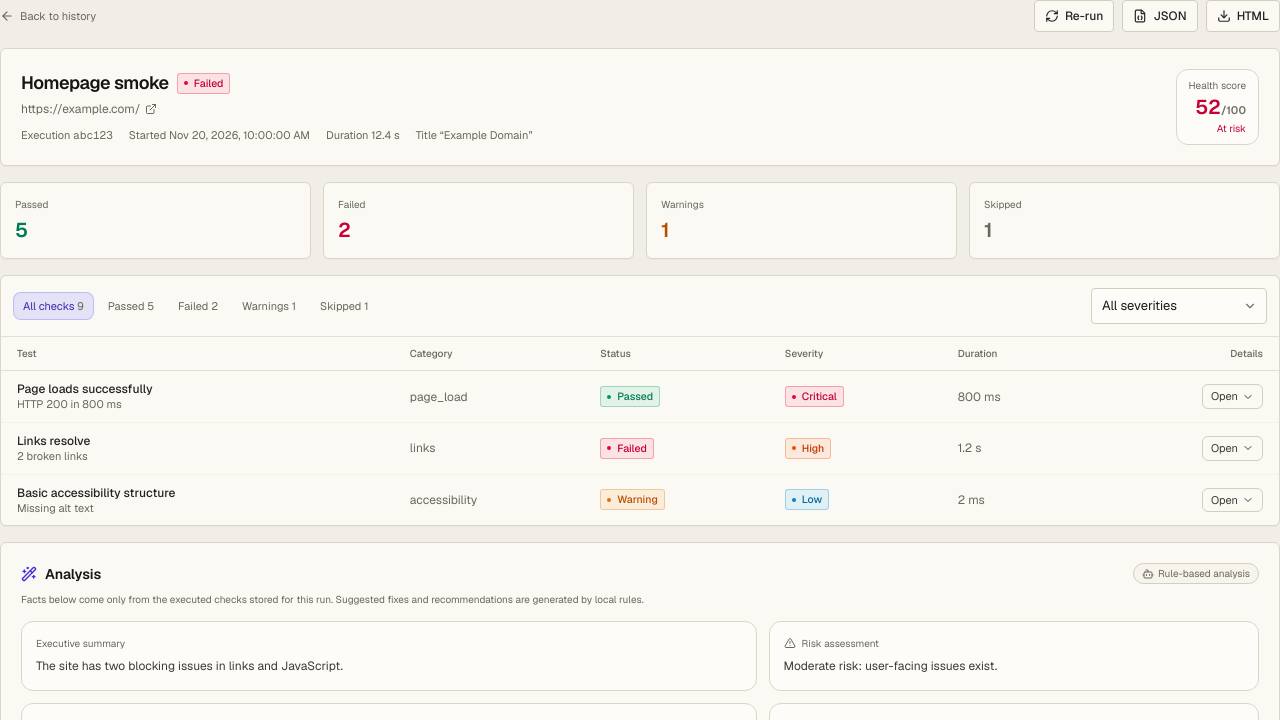
Test: Report page › filters the results table by status
Expected: the text "Page loads successfully" is shown, [17, 381, 152, 397]
Click the button "Failed 2" at (198, 306), box [168, 292, 228, 320]
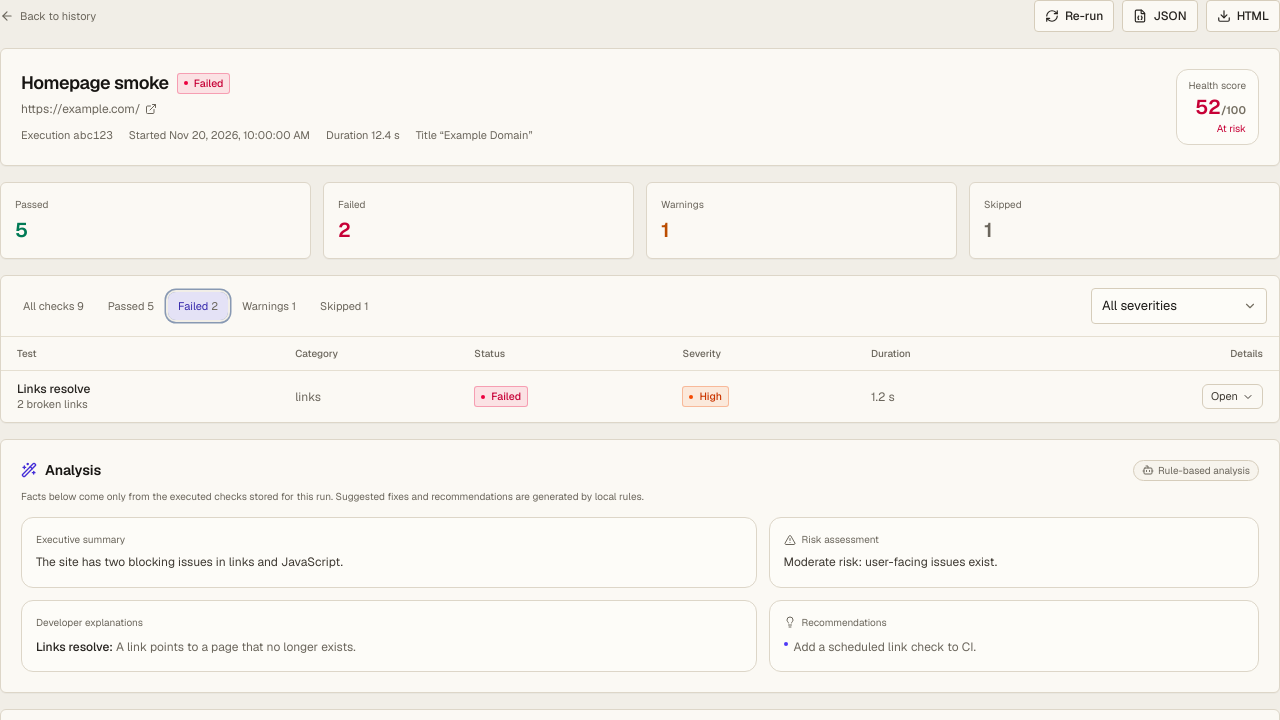
Expected: the text "Links resolve" is shown, [17, 381, 90, 397]
Expected: the text "Page loads successfully" is gone
Click the button "Warnings 1" at (269, 306), box [232, 292, 306, 320]
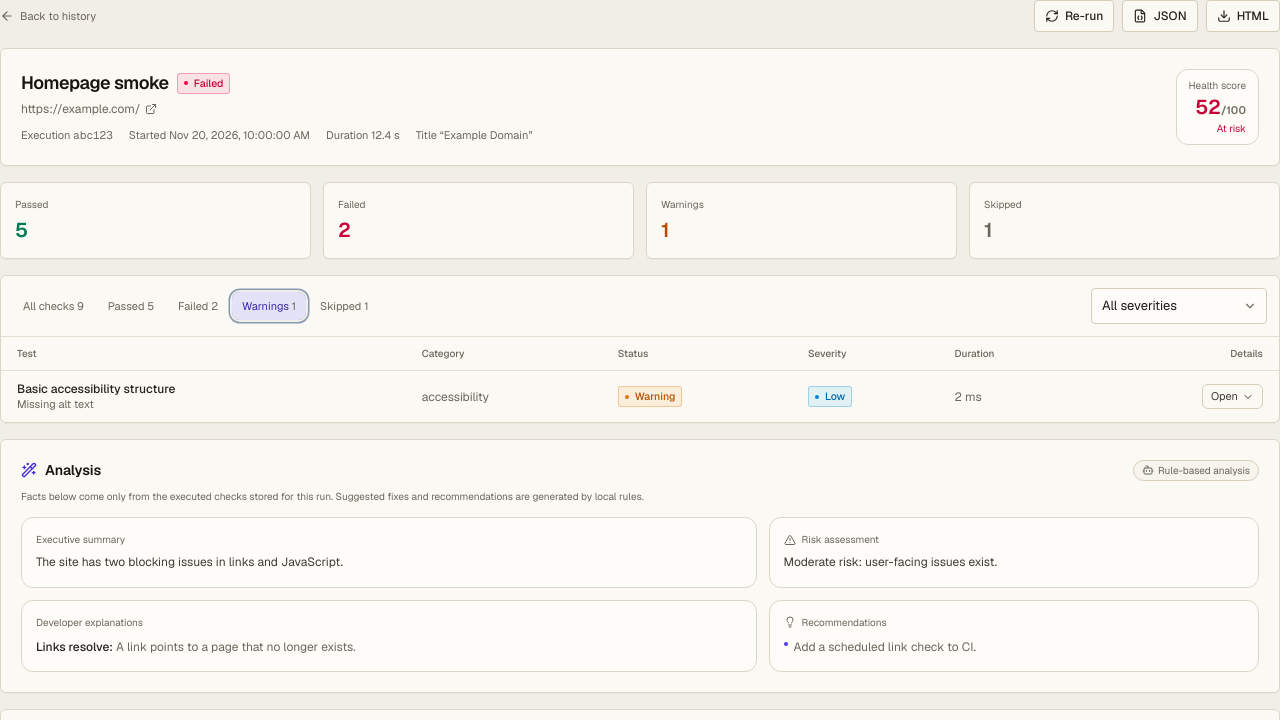
Expected: the text "Basic accessibility structure" is shown, [17, 381, 176, 397]
